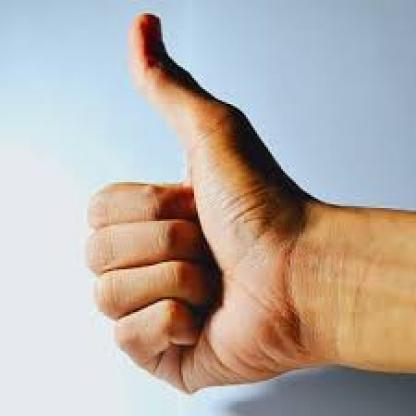thumb_up: (81, 7, 305, 398)
